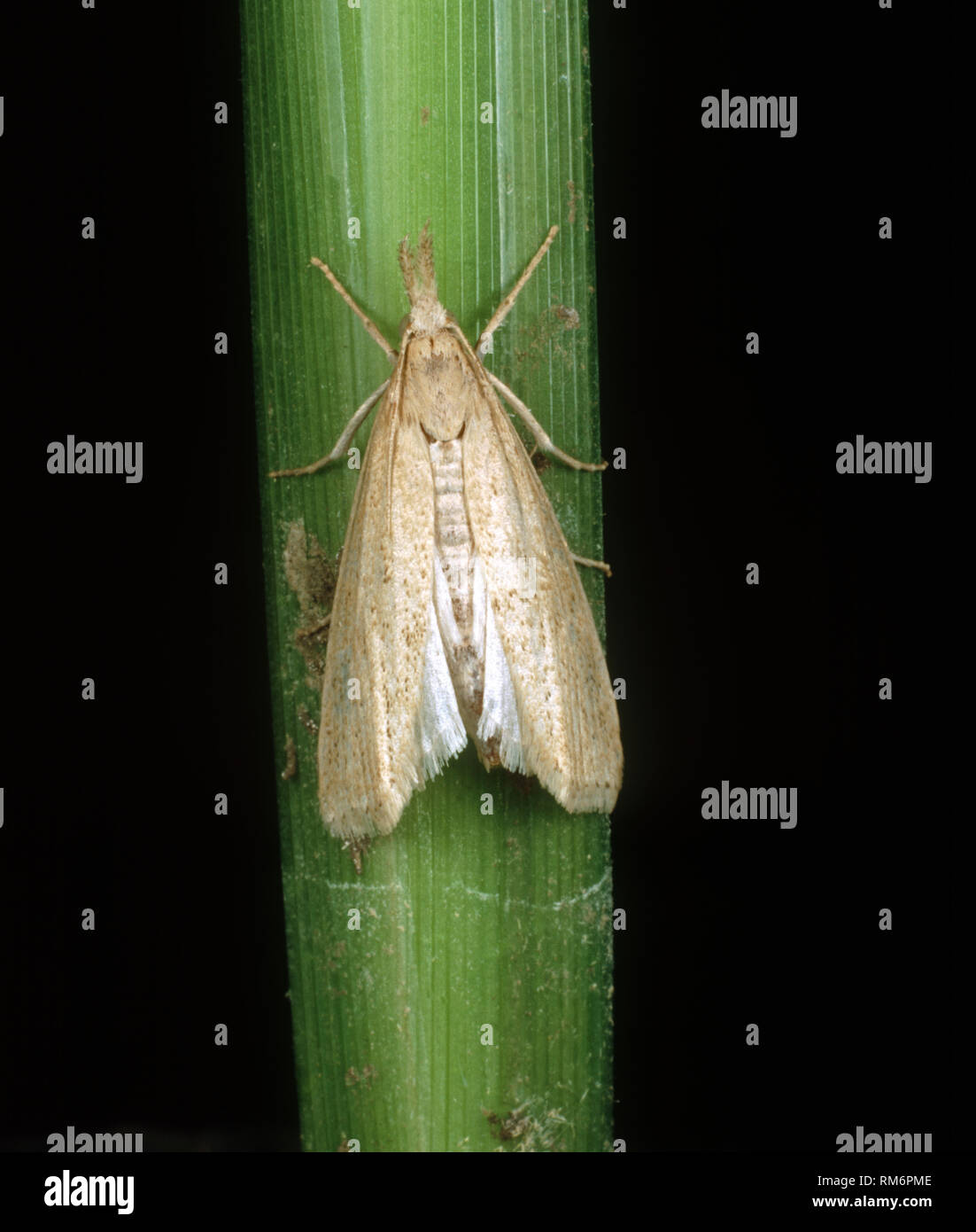Crambidae: (268, 215, 615, 865)
